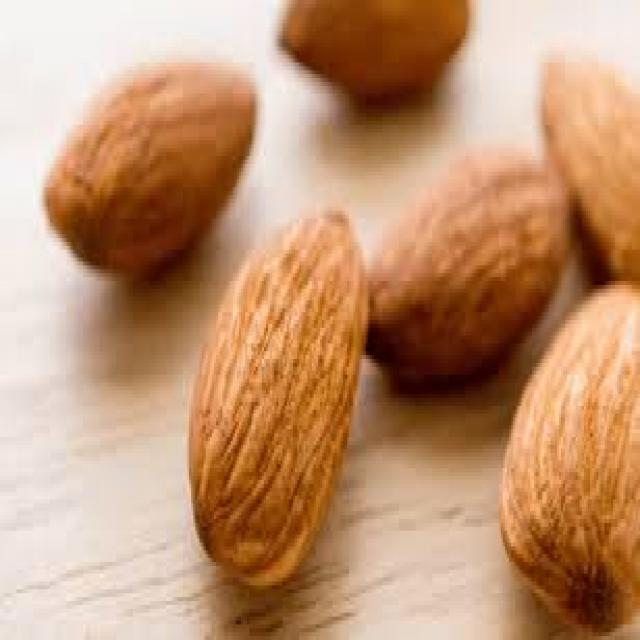almond: (183, 214, 365, 589), (358, 150, 580, 387), (496, 286, 640, 633), (40, 57, 255, 275)
